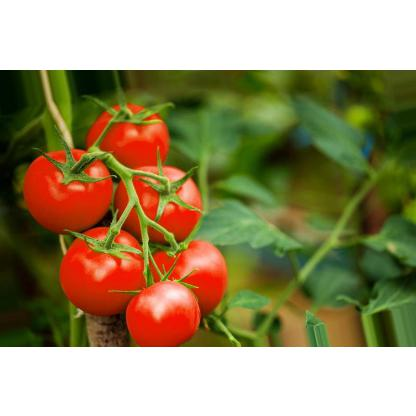tomato: (55, 218, 159, 322), (118, 141, 226, 237), (21, 136, 116, 238), (139, 231, 241, 313), (110, 276, 219, 346), (85, 94, 173, 174)
